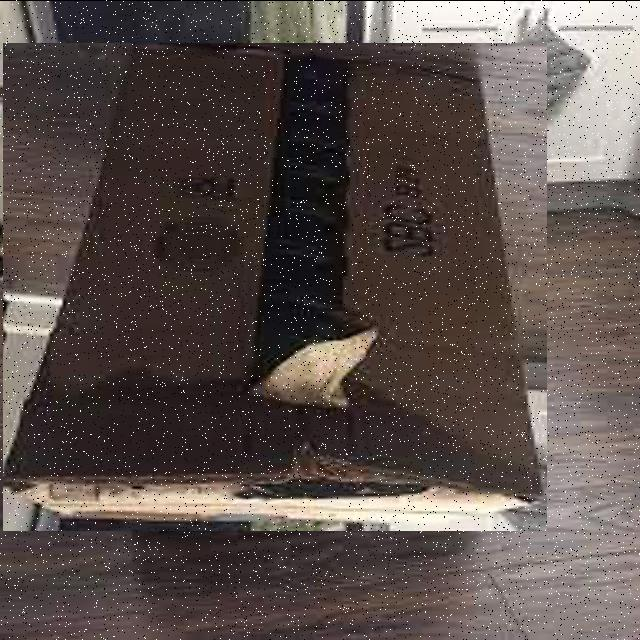defect: (3, 42, 547, 530)
